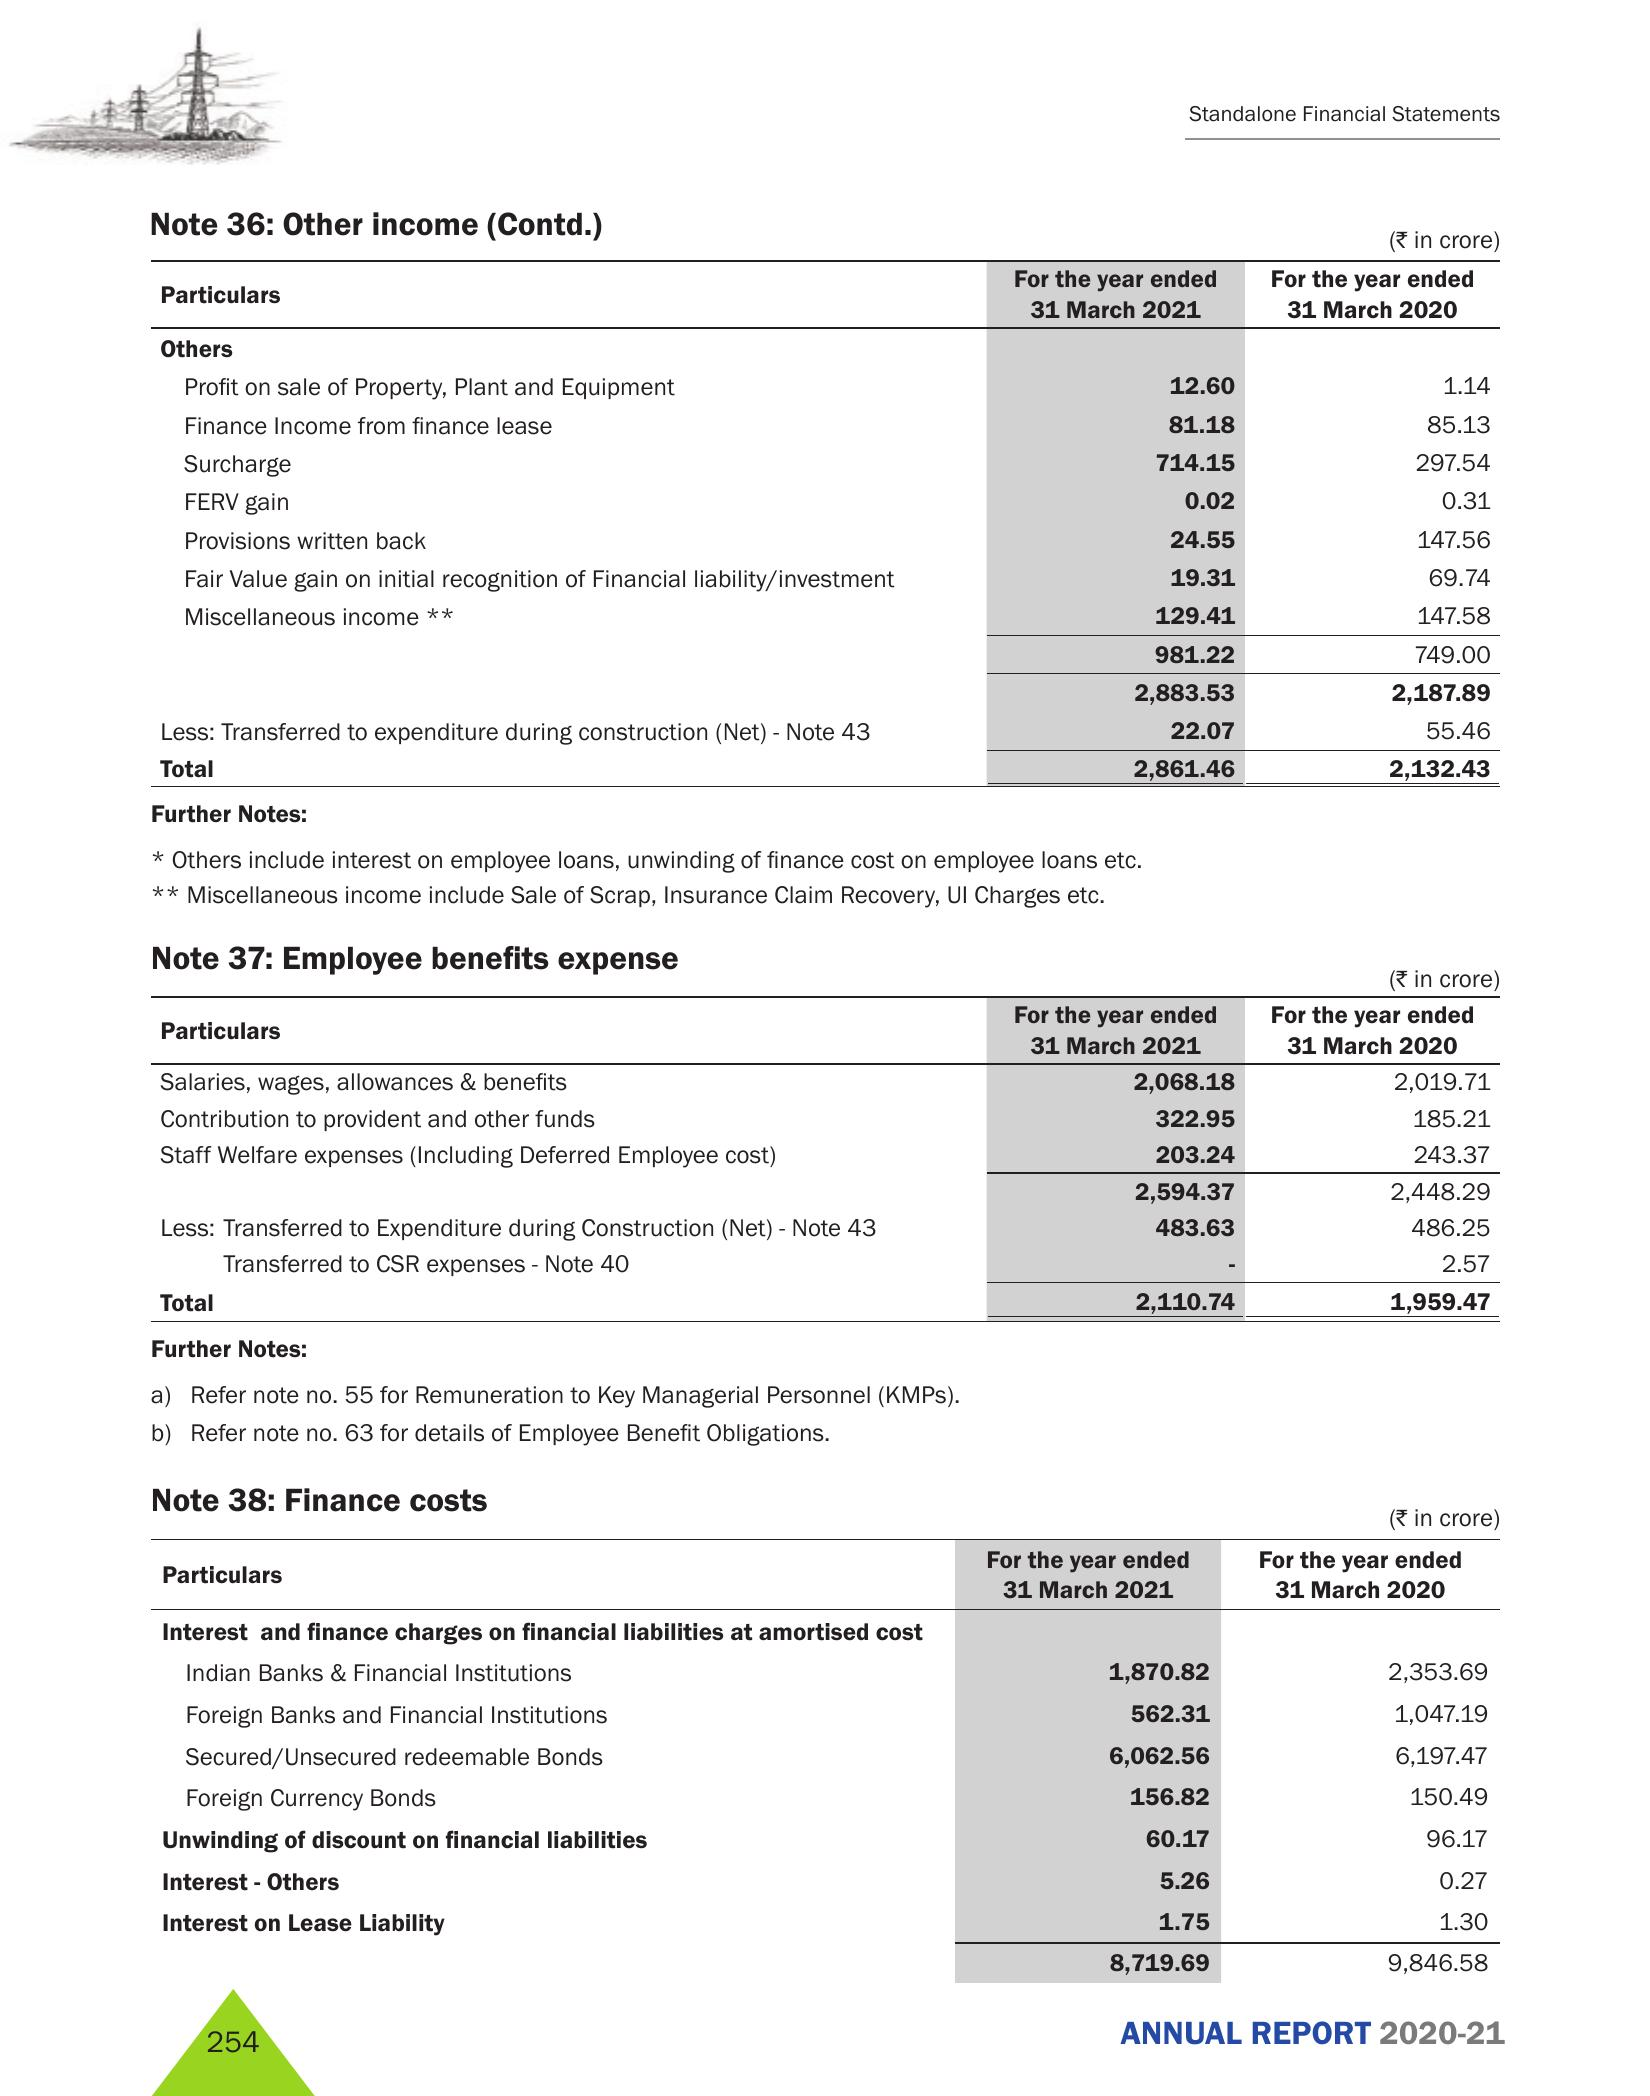Footer: (0, 1985, 1650, 2096)
Header: (0, 0, 1650, 172)
Table: (117, 260, 1511, 789), (122, 1540, 1528, 1982), (111, 997, 1521, 1324)
